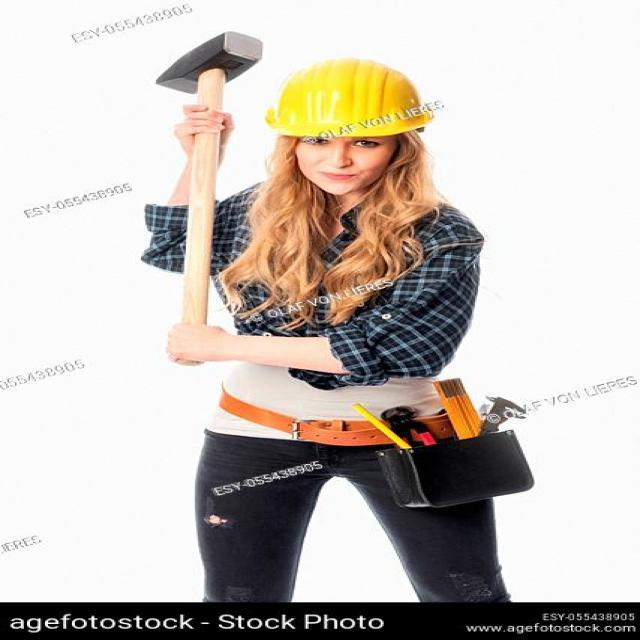hammer: (93, 21, 282, 377)
